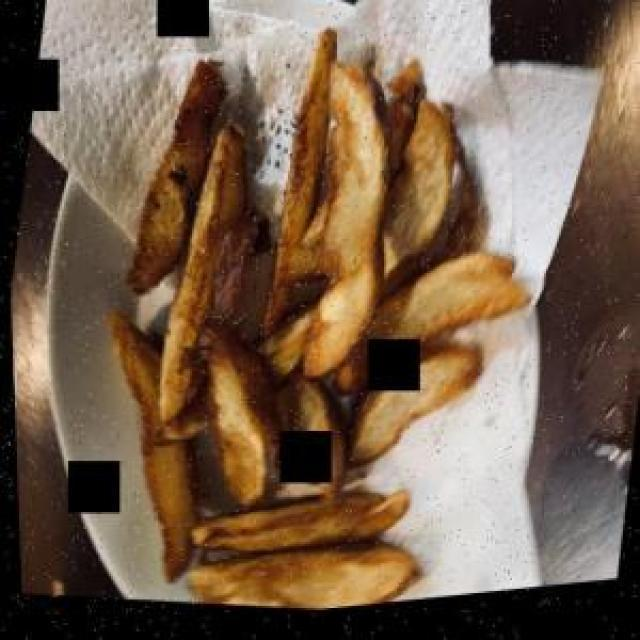French Fries: (21, 0, 576, 638)
